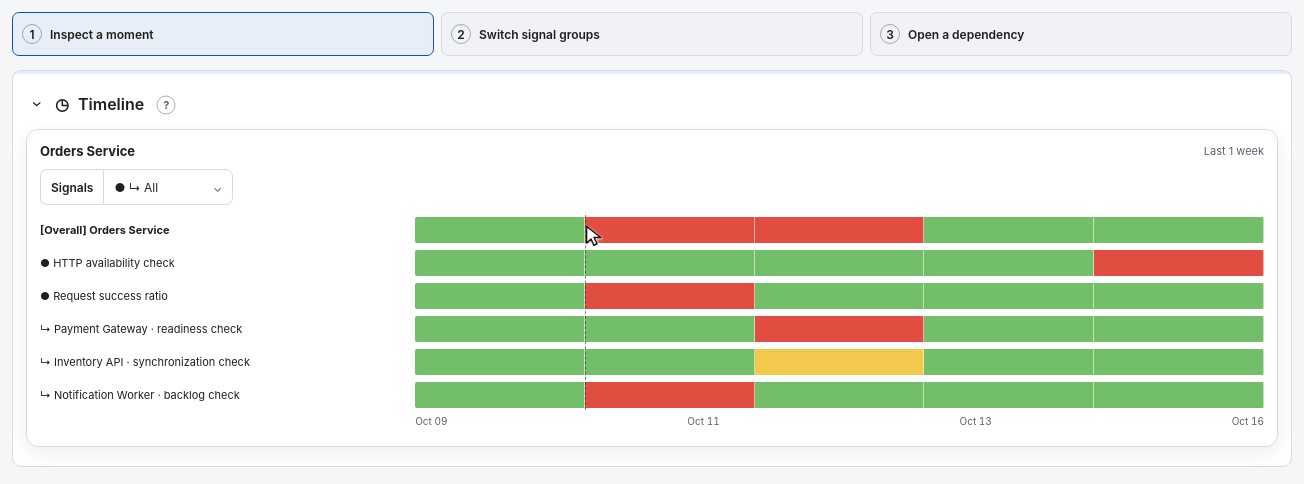
it: Timeline help walkthrough › renders the destination Item with Timeline collapsed
Step 1. Click the button "3 Open a dependency" → x=966, y=34, box [870,12,1292,56]
Wait 7400 ms
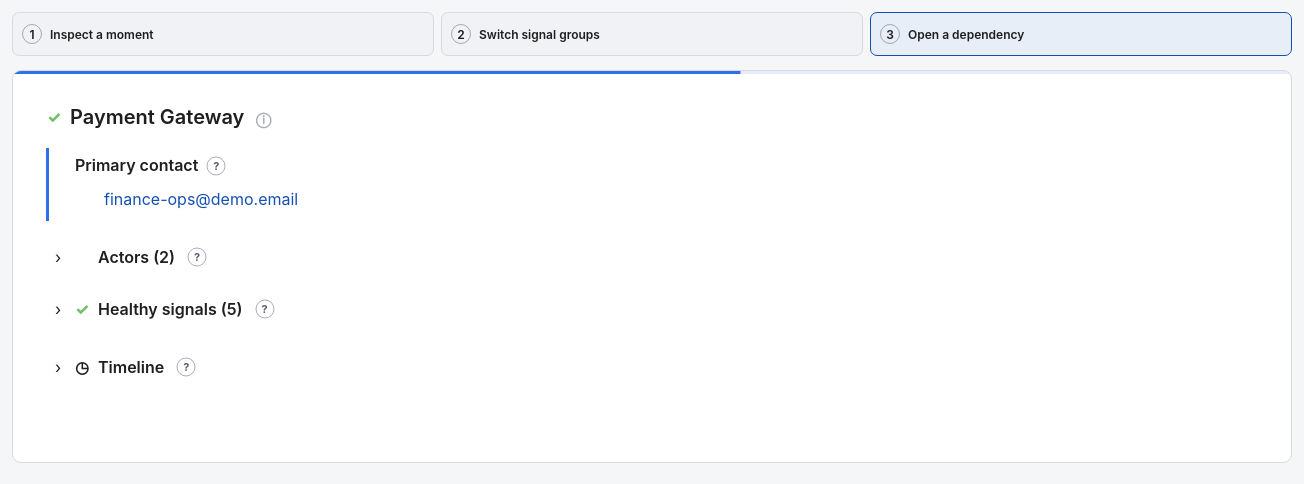
Check: the element with class "timeline-help-chart" is gone
